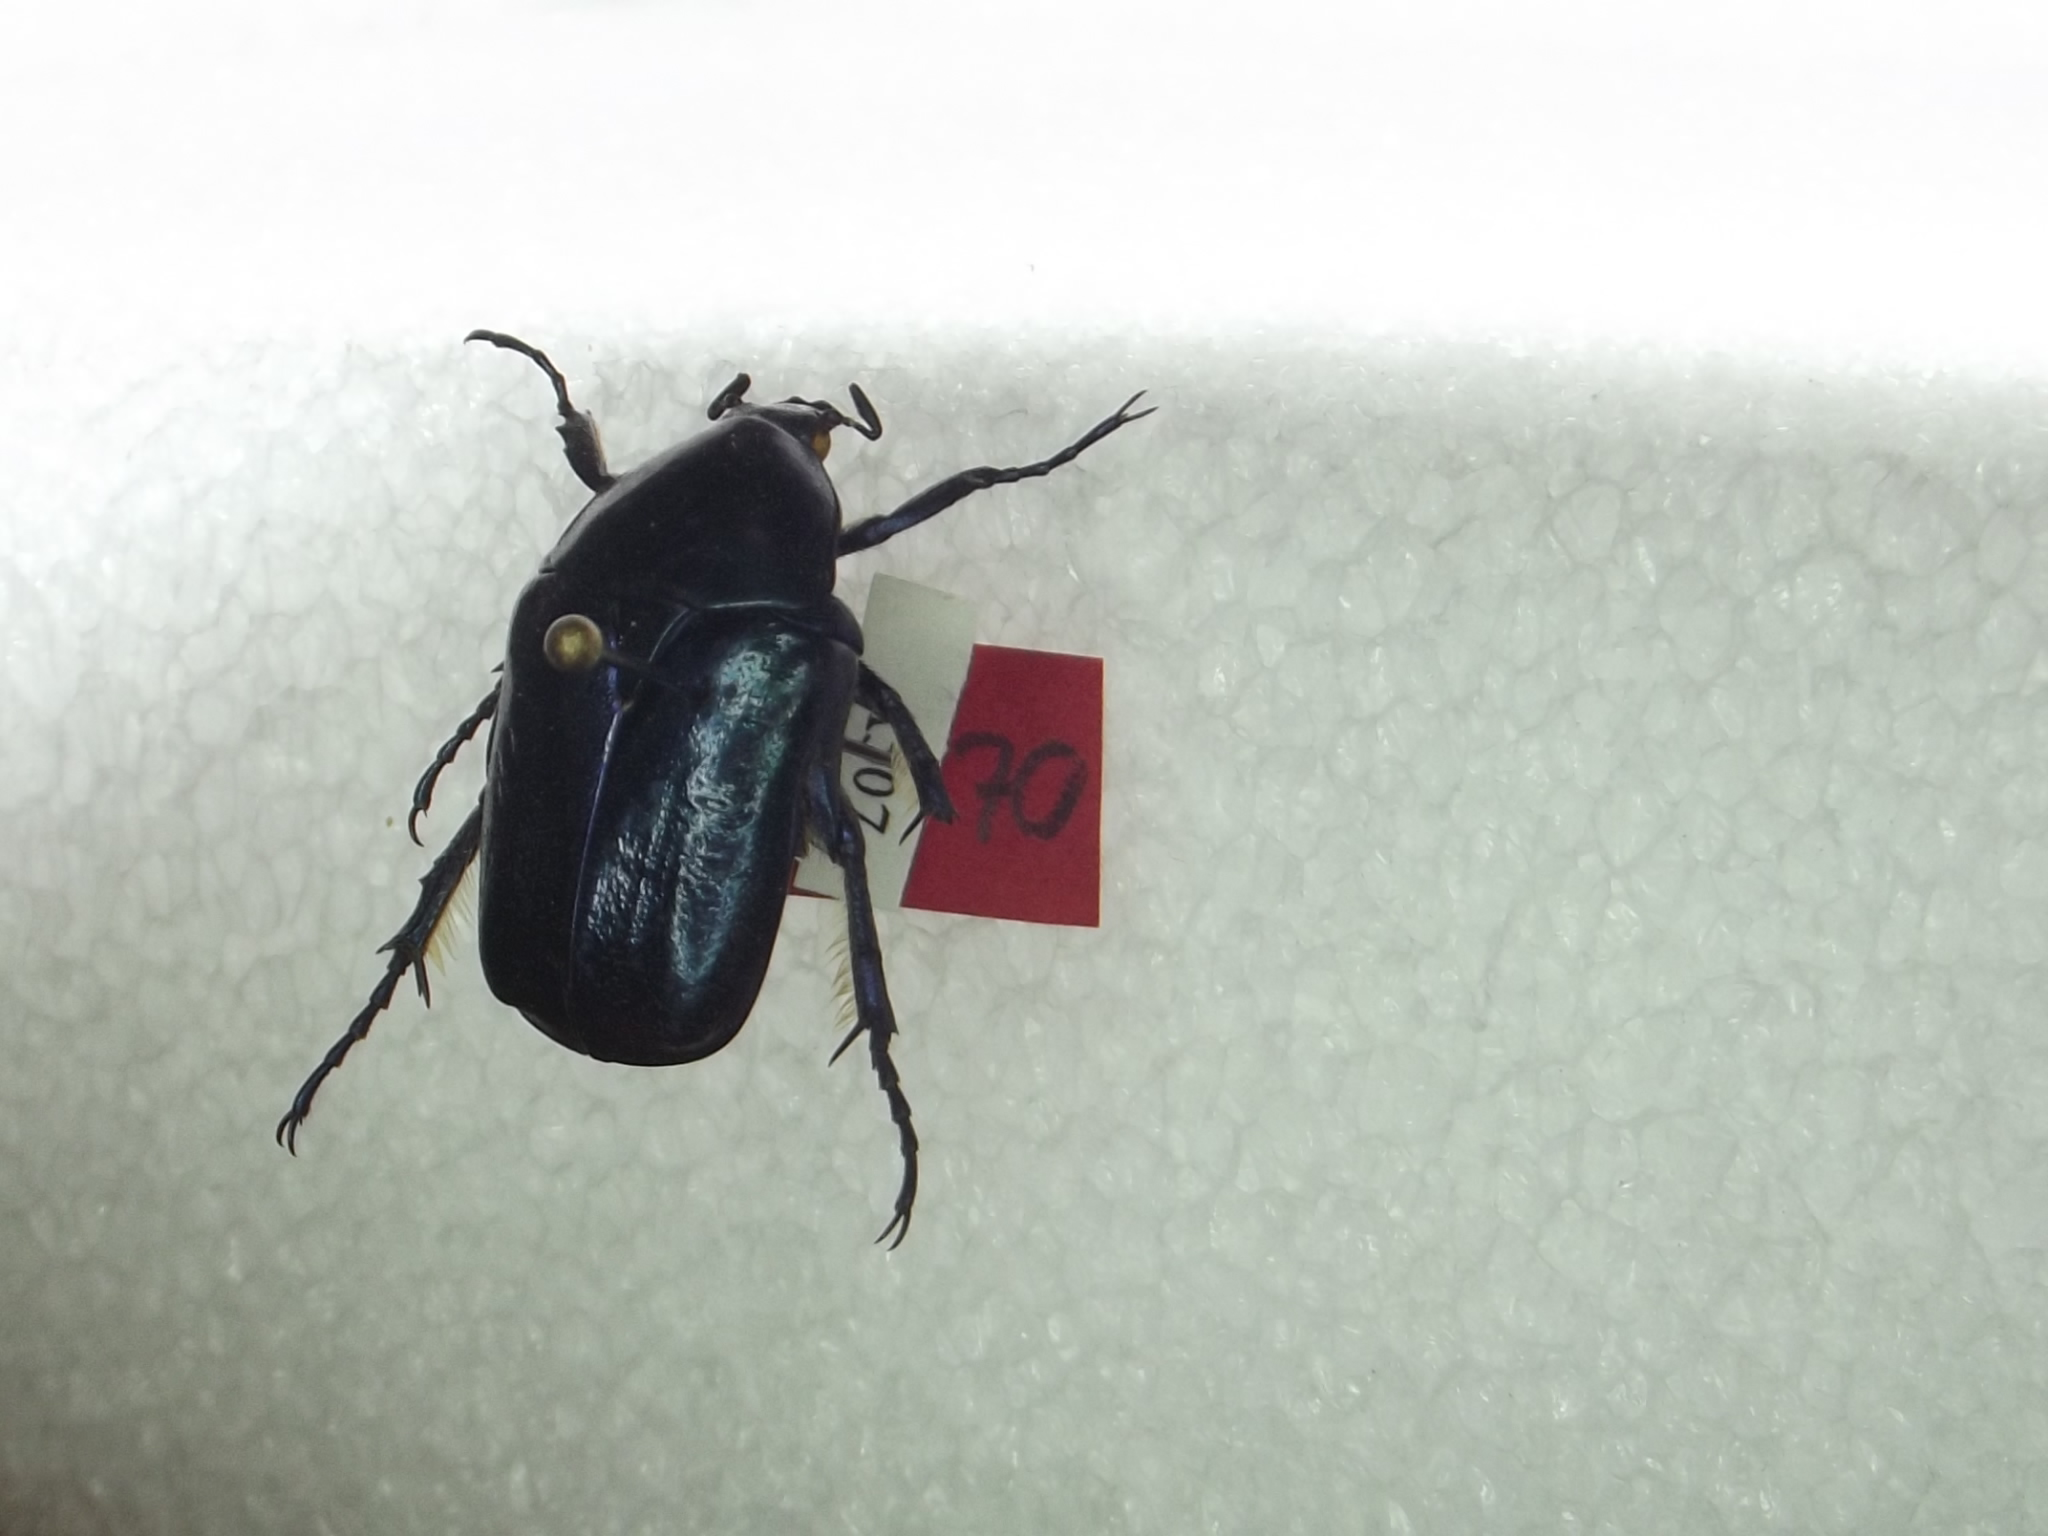Protaetia_besucheti: (234, 302, 1203, 1255)
